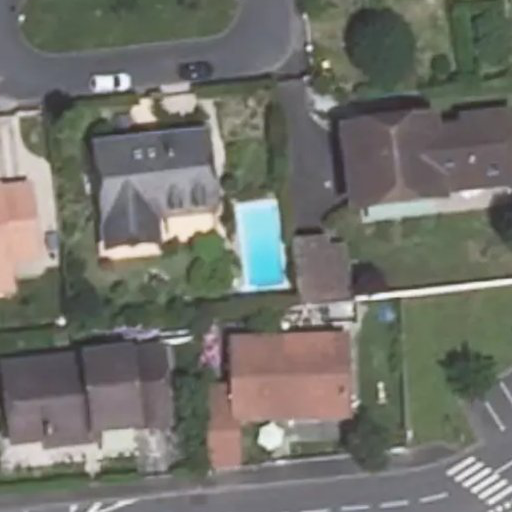pool: (232, 204, 279, 281)
